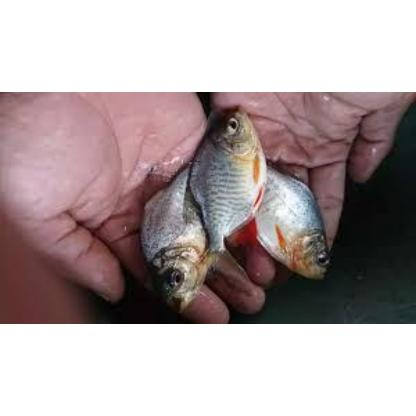ikan-pacu: (190, 105, 262, 239), (256, 164, 330, 282), (142, 168, 206, 302)
